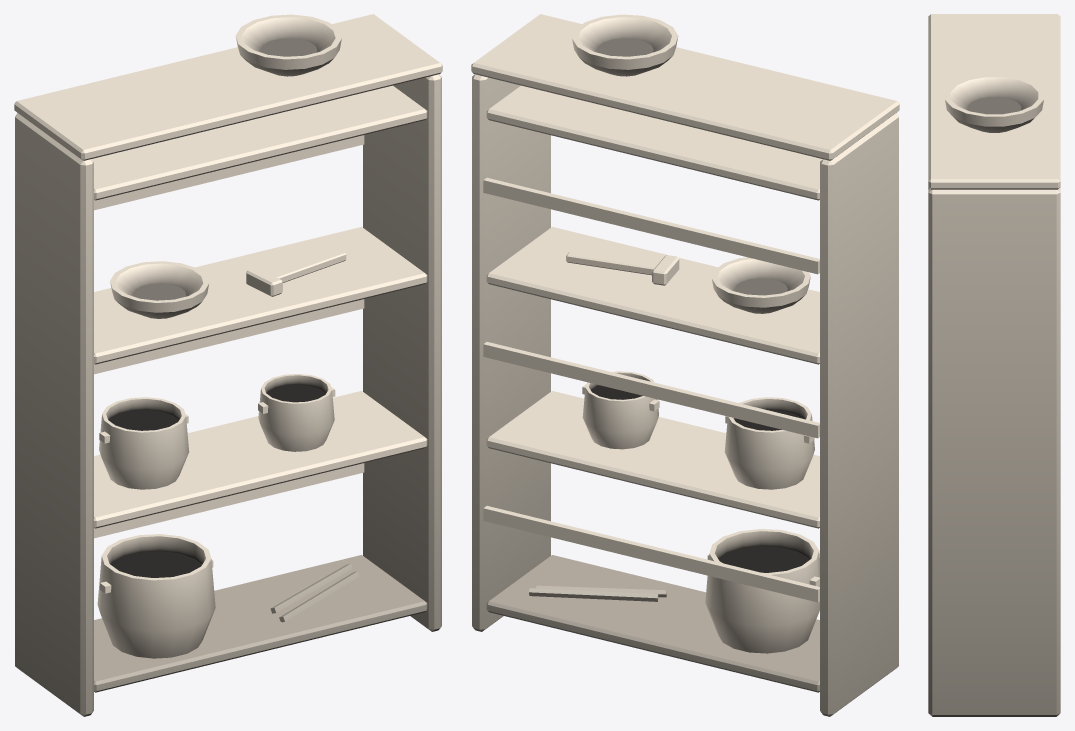
The model's file is SM_VKI_Prop_GoodsRack_150.fbx.
3 renders of one model, left to right at view 1: azimuth 30°, elevation 25°; view 2: azimuth 150°, elevation 25°; view 3: azimuth 270°, elevation 25°, orthographic. The views are drawn at different scales.
Parts seen in each view (by area): view 1: SM_VKI_Prop_GoodsRack_150.001; view 2: SM_VKI_Prop_GoodsRack_150.001; view 3: SM_VKI_Prop_GoodsRack_150.001.
Part boxes in pixels (x1,y1,x2,y2): SM_VKI_Prop_GoodsRack_150.001: [14, 14, 442, 716]; SM_VKI_Prop_GoodsRack_150.001: [471, 14, 899, 716]; SM_VKI_Prop_GoodsRack_150.001: [928, 14, 1060, 716].
Size of the model in its own units: 1.2 by 1.9 by 0.4.
